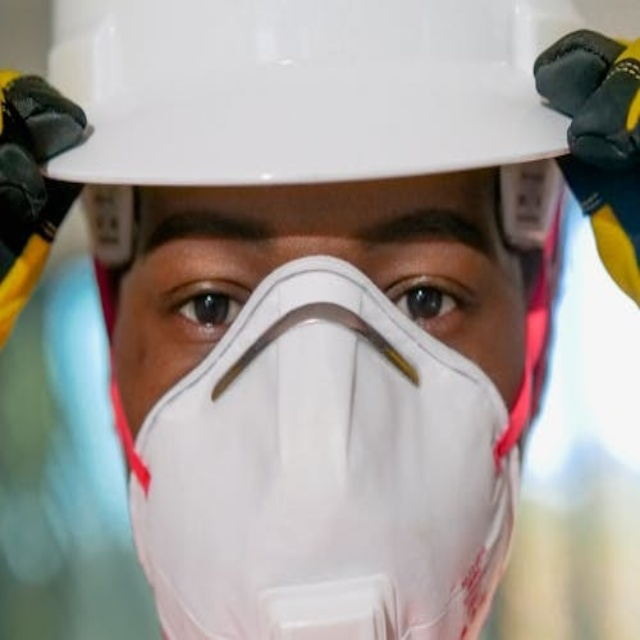Guantes: (534, 27, 638, 312), (0, 73, 93, 306)
Mascara: (124, 254, 521, 640)
Sin_gafas: (145, 205, 484, 338)
